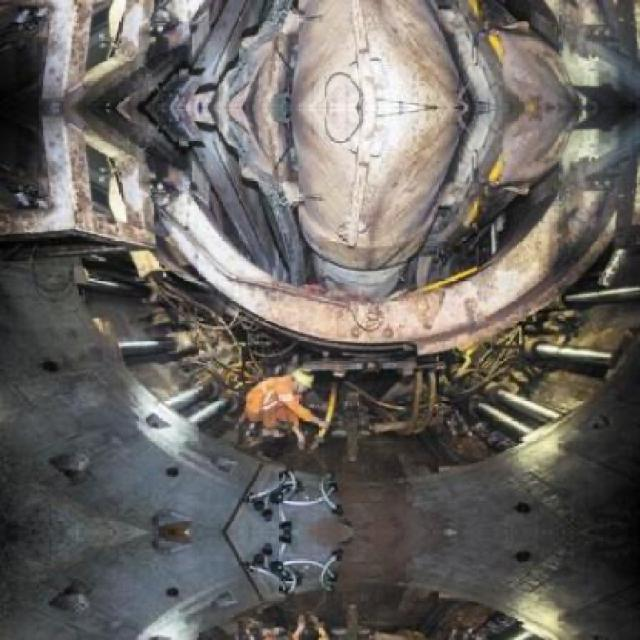con casco: (284, 362, 332, 400)
